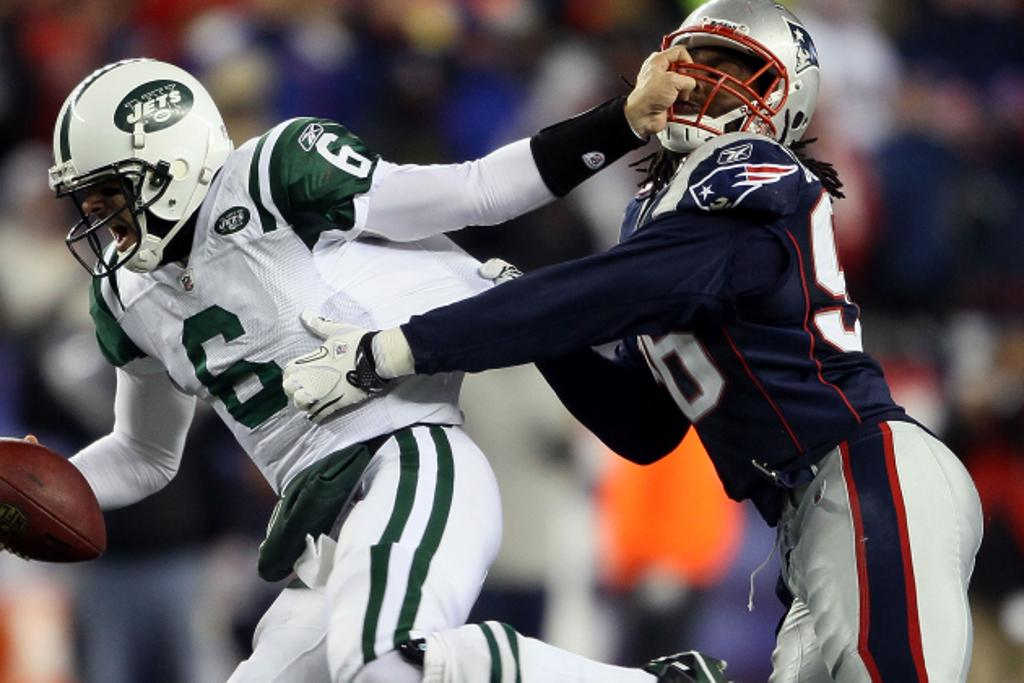face: (660, 22, 758, 142), (74, 164, 166, 270)
